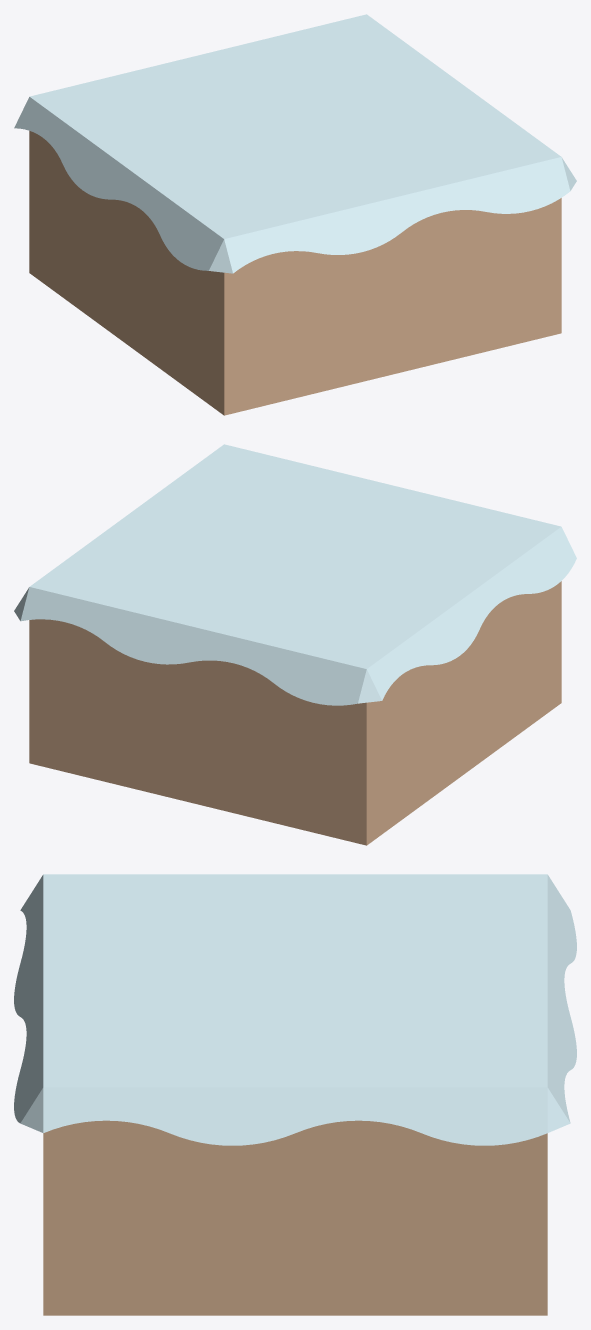
File: blocksnowlarge.glb
The picture shows the model from 3 angles, top to bottom: view 1: azimuth 30°, elevation 25°; view 2: azimuth 150°, elevation 25°; view 3: azimuth 270°, elevation 25°; orthographic projection. The views are drawn at different scales.
Parts seen in each view (by area): view 1: blockSnowLarge(Clone); view 2: blockSnowLarge(Clone); view 3: blockSnowLarge(Clone).
Boxes of the visible parts, left/top/right/bottom form: blockSnowLarge(Clone): left=14, top=14, right=576, bottom=415; blockSnowLarge(Clone): left=14, top=444, right=576, bottom=845; blockSnowLarge(Clone): left=14, top=874, right=576, bottom=1315.
Bounding box in the file's own units: 2.23 × 1 × 2.23.
